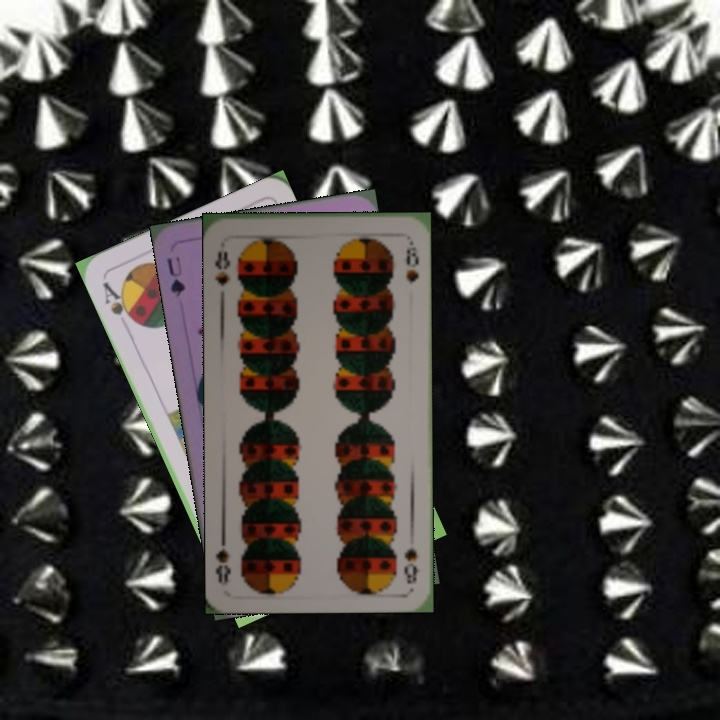GU: (163, 252, 188, 299)
S8: (400, 544, 422, 586), (211, 247, 233, 288)
SA: (98, 277, 139, 327)
